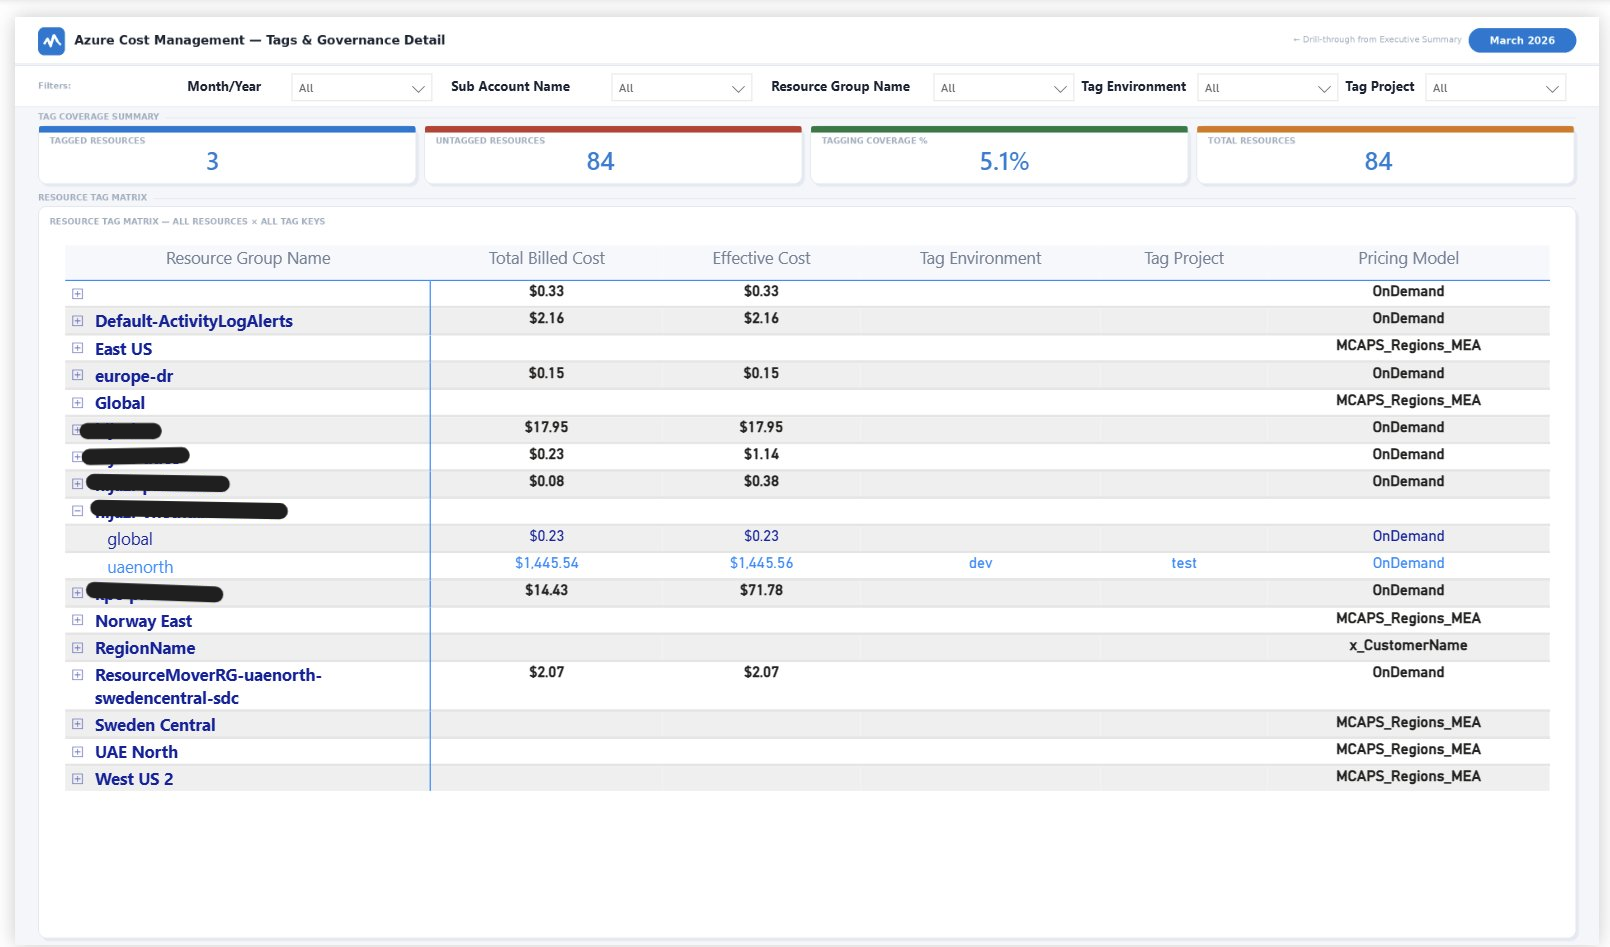

The page's visual inventory and layout, read from the dashboard file:
{"tool":"powerbi","page":{"name":"Tags & Governance","canvas":[1280,750],"ordinal":1},"visuals":[{"type":"slicer","fields":{"Values":["Date.Month Year"]},"box":[212.8,35,134.2,36.8],"z":0},{"type":"slicer","fields":{"Values":["cost-analysis-focus.SubAccountName"]},"box":[472.6,35,134.2,36.8],"z":1000},{"type":"slicer","fields":{"Values":["cost-analysis-focus.ResourceGroupName"]},"box":[732.5,35,134.2,36.8],"z":2000},{"type":"slicer","fields":{"Values":["cost-analysis-focus.Tag_Environment"]},"box":[946.2,35,134.2,36.8],"z":3000},{"type":"textbox","box":[133.3,40.2,79.5,32.5],"z":4000},{"type":"slicer","fields":{"Values":["cost-analysis-focus.Tag_Project"]},"box":[1129.1,35,134.2,36.8],"z":5000},{"type":"textbox","box":[1070,40,70,33.3],"z":6000},{"type":"textbox","box":[856.7,40,108.3,33.3],"z":7000},{"type":"textbox","box":[606.8,40.2,125.6,32.5],"z":8000},{"type":"textbox","box":[347,40.2,125.6,32.5],"z":9000},{"type":"cardVisual","fields":{"Data":["_Measures.FOCUS Tagged Resources Count"]},"box":[71.1,84,177.8,61.4],"z":10000},{"type":"cardVisual","fields":{"Data":["_Measures.FOCUS Untagged Resources Count"]},"box":[384.6,84,177.8,61.4],"z":11000},{"type":"cardVisual","fields":{"Data":["_Measures.Tagging Coverage %"]},"box":[711.1,84,177.8,61.4],"z":12000},{"type":"cardVisual","fields":{"Data":["_Measures.FOCUS Distinct Resources"]},"box":[1013.3,84,177.8,61.4],"z":13000},{"type":"pivotTable","fields":{"Rows":["cost-analysis-focus.ResourceGroupName","cost-analysis-focus.ResourceRegion"],"Values":["_Measures.FOCUS Total Billed Cost","_Measures.FOCUS Effective Cost","Min(cost-analysis-focus.Tag_Environment)","Min(cost-analysis-focus.Tag_Project)","Min(cost-analysis-focus.x_PricingModel)"]},"box":[35,180,1213.3,546.7],"z":14000}]}

Visuals, with their boxes in screenshot pixels (x1, y1, x2, y2), scaled from the page's 1280x750 canvas onto the 1610x947 screenshot:
slicer - Date.Month Year: 268/44/436/91
slicer - cost-analysis-focus.SubAccountName: 594/44/763/91
slicer - cost-analysis-focus.ResourceGroupName: 921/44/1090/91
slicer - cost-analysis-focus.Tag_Environment: 1190/44/1359/91
textbox: 168/51/268/92
slicer - cost-analysis-focus.Tag_Project: 1420/44/1589/91
textbox: 1346/51/1434/93
textbox: 1078/51/1214/93
textbox: 763/51/921/92
textbox: 436/51/594/92
cardVisual - _Measures.FOCUS Tagged Resources Count: 89/106/313/184
cardVisual - _Measures.FOCUS Untagged Resources Count: 484/106/707/184
cardVisual - _Measures.Tagging Coverage %: 894/106/1118/184
cardVisual - _Measures.FOCUS Distinct Resources: 1275/106/1498/184
pivotTable - cost-analysis-focus.ResourceGroupName x cost-analysis-focus.ResourceRegion: 44/227/1570/918
